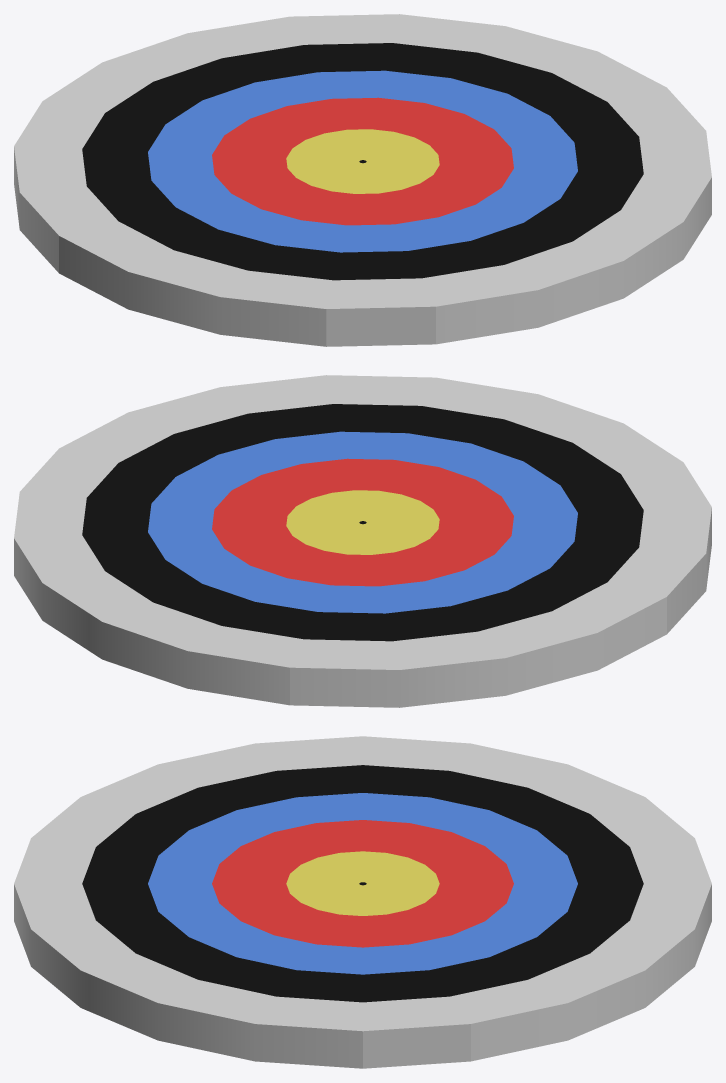
The model's file is TargetShattered.fbx.
3 views of the same model, one above another, from view 1: azimuth 30°, elevation 25°; view 2: azimuth 150°, elevation 25°; view 3: azimuth 270°, elevation 25° (orthographic).
Visible parts, largest first — view 1: Circle.001, Circle.002, Circle.003, Circle.004; view 2: Circle.001, Circle.003, Circle.002, Circle.004; view 3: Circle.003, Circle.001, Circle.002, Circle.004.
Boxes of the visible parts, left/top/right/bottom form: Circle.001: left=14, top=51, right=666, bottom=346; Circle.002: left=408, top=87, right=711, bottom=344; Circle.003: left=44, top=14, right=597, bottom=160; Circle.004: left=59, top=175, right=346, bottom=346; Circle.001: left=20, top=423, right=682, bottom=707; Circle.003: left=14, top=492, right=477, bottom=705; Circle.002: left=59, top=375, right=623, bottom=498; Circle.004: left=438, top=462, right=711, bottom=633; Circle.003: left=365, top=788, right=711, bottom=1061; Circle.001: left=31, top=736, right=694, bottom=1068; Circle.002: left=14, top=838, right=362, bottom=1068; Circle.004: left=81, top=736, right=449, bottom=857.
Size of the model in its own units: 200 by 11.86 by 200.
